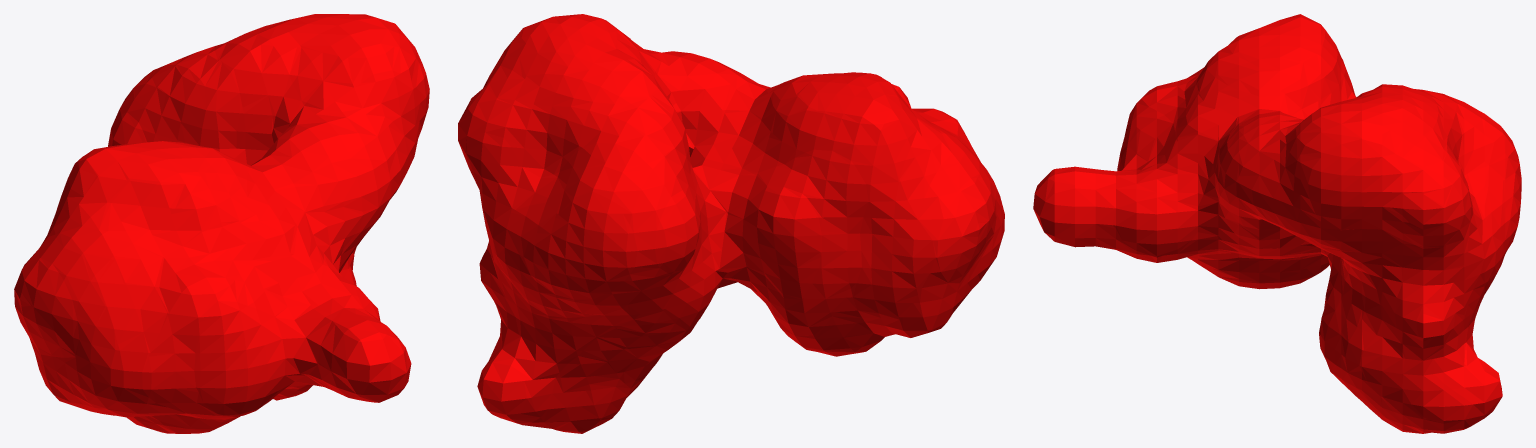
The model's file is dicA_coarse.dae.
3 renders of one model, left to right at view 1: azimuth 30°, elevation 25°; view 2: azimuth 150°, elevation 25°; view 3: azimuth 270°, elevation 25°, orthographic. The views are drawn at different scales.
Parts seen in each view (by area): view 1: dicA; view 2: dicA; view 3: dicA.
Part boxes in pixels (x1=…): dicA: x1=14, y1=14, x2=429, y2=433; dicA: x1=458, y1=14, x2=1004, y2=433; dicA: x1=1033, y1=14, x2=1521, y2=433.
Bounding box in the file's own units: 51.94 × 42.59 × 55.88.
